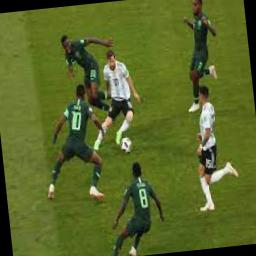football: (119, 136, 132, 154)
